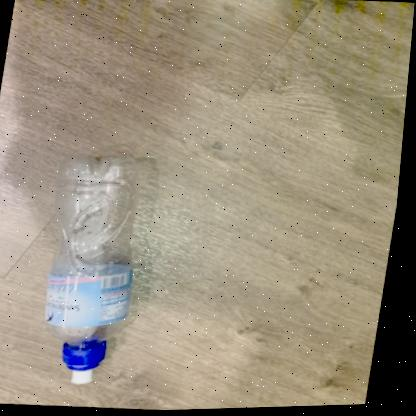Plastic: (50, 155, 141, 384)
